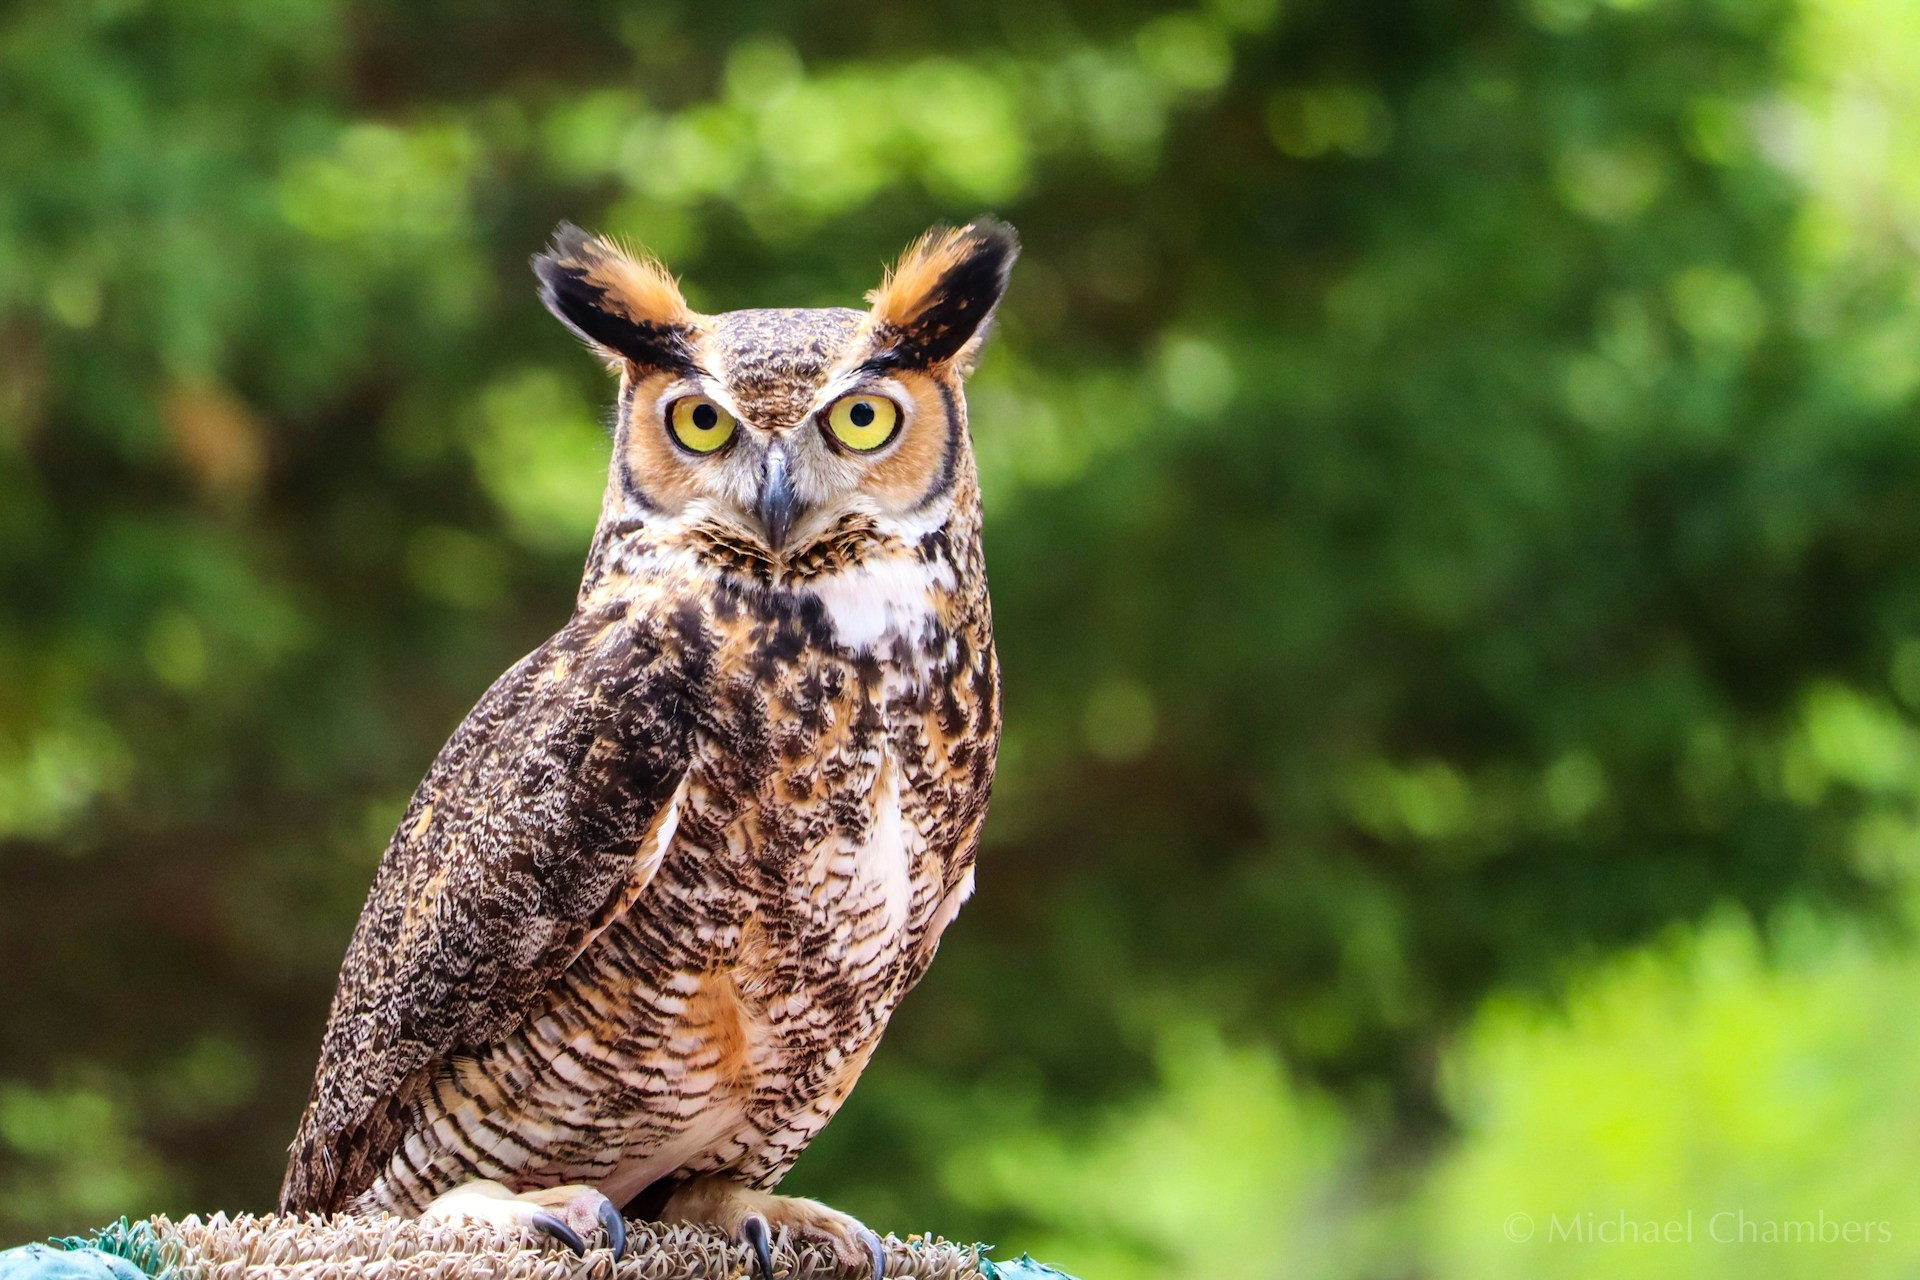owl: (259, 200, 1061, 1279)
